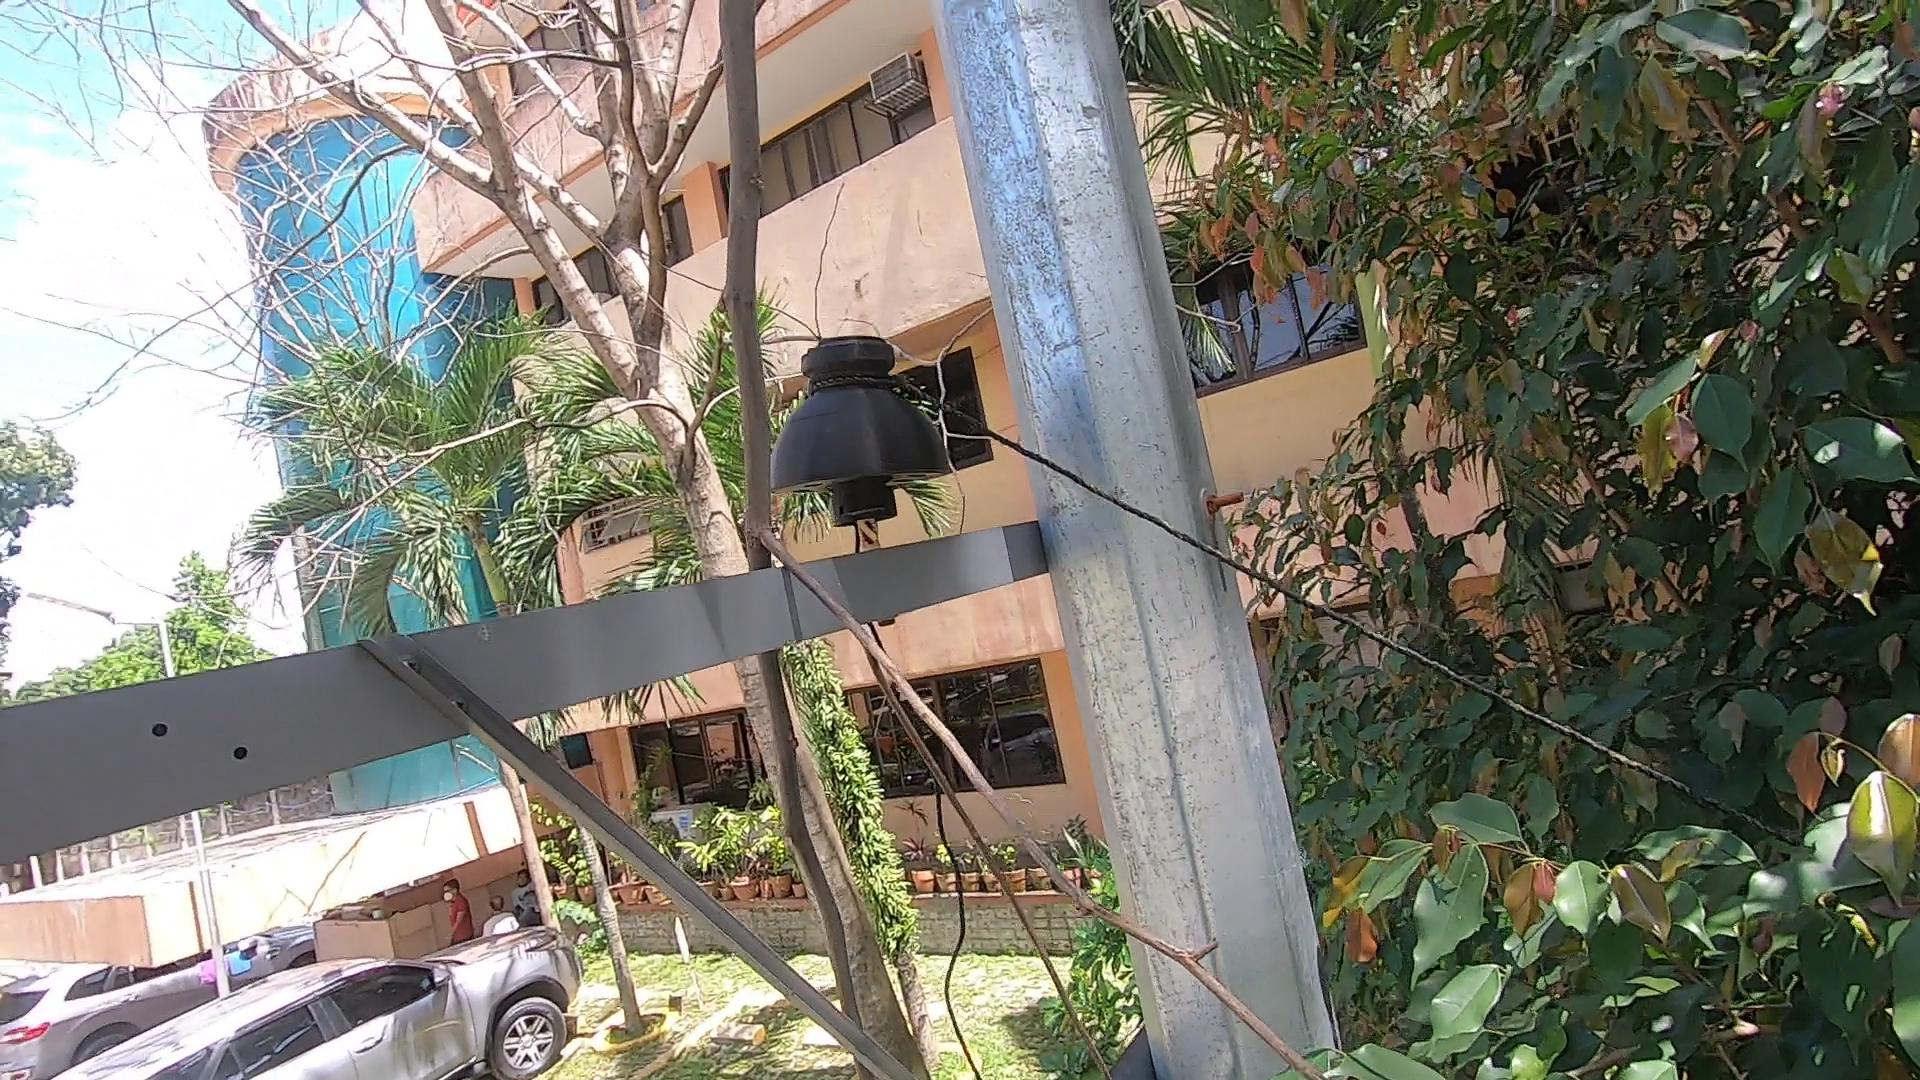tree branch: (651, 3, 1383, 1075)
